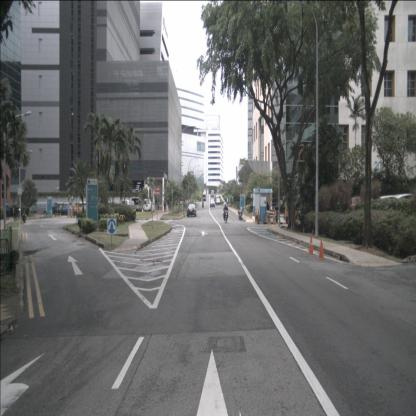cone: (318, 238, 326, 260), (307, 235, 315, 254)
